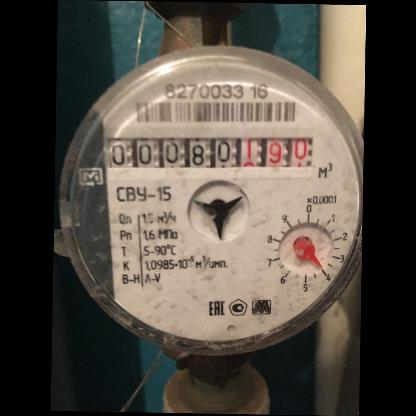digital_screen: (105, 123, 242, 177)
